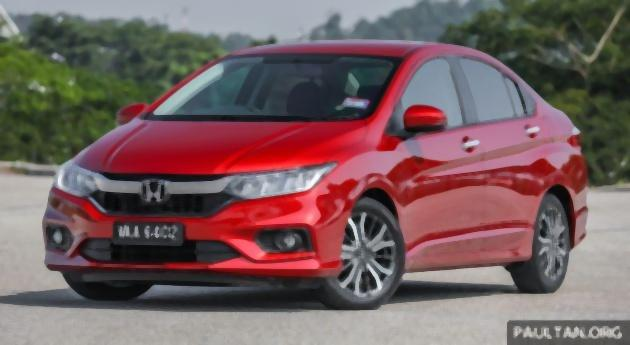Car hood: (69, 114, 370, 180)
Fender - -F-L-: (317, 116, 406, 275)
Fender - -R-L-: (536, 120, 582, 246)
Front bumper: (38, 190, 355, 283)
Headlight - -L-: (222, 155, 344, 203)
Headlight - -R-: (46, 157, 102, 203)
Passenger-s door - -F-L-: (404, 48, 484, 260)
Passenger-s door - -R-L-: (482, 54, 554, 260)
Rear bumper: (567, 193, 598, 253)
Rear light - -L-: (565, 116, 590, 152)
Side bumper - -L-: (395, 242, 546, 274)
Side mirror - -L-: (397, 101, 451, 141)
Side mirror - -R-: (107, 98, 151, 130)
